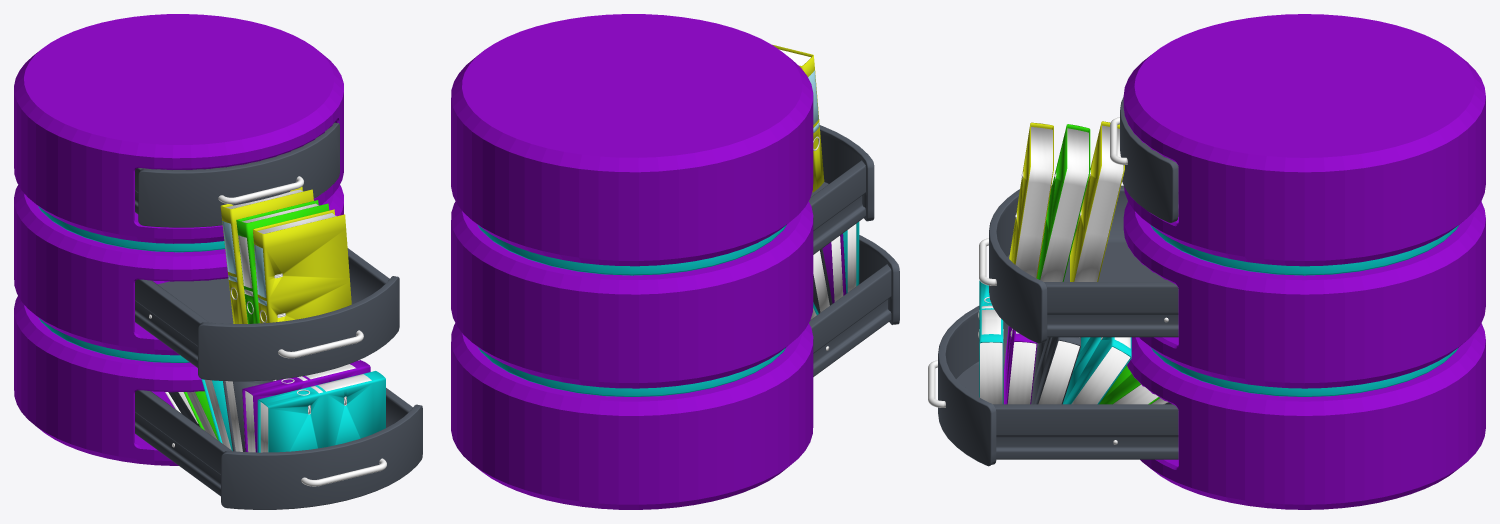
The model's file is DatabaseWeb.gltf.
The picture shows the model from 3 angles, left to right: view 1: azimuth 30°, elevation 25°; view 2: azimuth 150°, elevation 25°; view 3: azimuth 270°, elevation 25°; orthographic projection. The views are drawn at different scales.
Visible parts, largest first — view 1: O, A, C, Основа1_3, Основа1_9, C_2, Основа1, Основа1_2, Основа1_8, Основа1_7, Основа1_6, B (+7 smaller); view 2: O, C, C_2, A, Основа1_3, Основа2_9, Основа1_8, Основа2_7, Основа2_8; view 3: O, C, A, C_2, Основа2_2, Основа2_3, Основа2, Основа1_6, Основа1, Основа1_2, Основа2_7, Основа2_8 (+7 smaller).
Part boxes in pixels (x1,y1,x2,y2): O: (14,14,343,465); A: (138,122,422,509); C: (135,147,412,496); Основа1_3: (253,209,351,323); Основа1_9: (257,371,385,452); C_2: (38,206,225,362); Основа1: (220,186,313,323); Основа1_2: (236,200,329,323); Основа1_8: (242,360,370,452); Основа1_7: (223,379,280,451); Основа1_6: (201,379,232,450); B: (149,314,363,358); O: (451,14,813,509); C: (809,160,891,376); C_2: (478,225,786,396); A: (819,125,899,324); Основа1_3: (772,44,824,192); Основа2_9: (847,224,856,292); Основа1_8: (822,233,846,303); Основа2_7: (813,250,829,312); Основа2_8: (831,236,843,301); O: (1123,14,1485,509); C: (928,164,1178,459); A: (938,97,1178,466); C_2: (1150,225,1458,396); Основа2_2: (1040,128,1088,281); Основа2_3: (1015,127,1052,277); Основа2: (1074,125,1123,281); Основа1_6: (1063,337,1131,404); Основа1: (1070,121,1124,281); Основа1_2: (1037,124,1090,281); Основа2_7: (1038,340,1079,404); Основа2_8: (1007,342,1036,404).
Size of the model in its own units: 0.9999 by 1.07 by 1.54.
